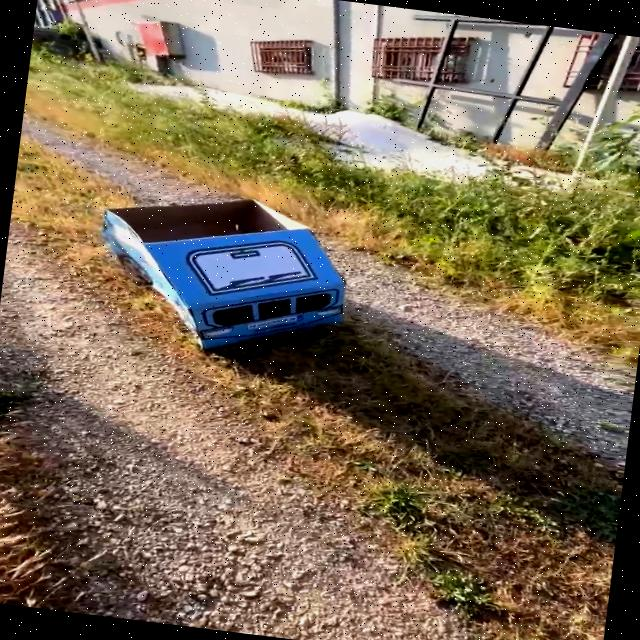blue_car: (59, 159, 408, 394)
